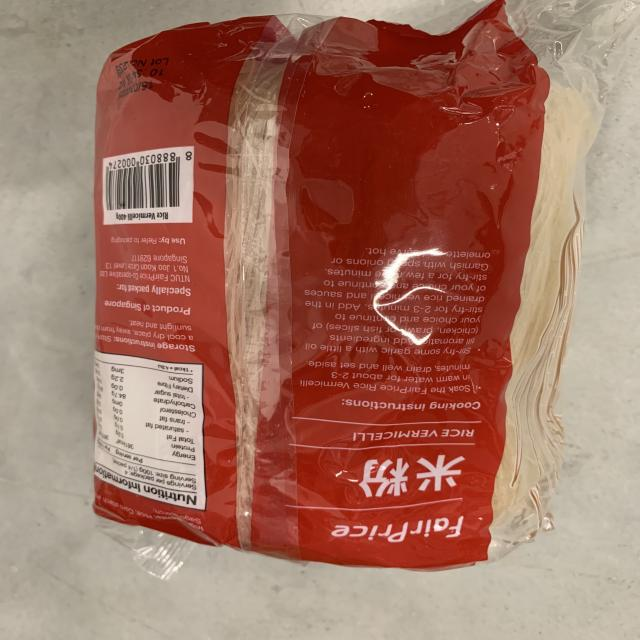object_name: (78, 29, 538, 581)
